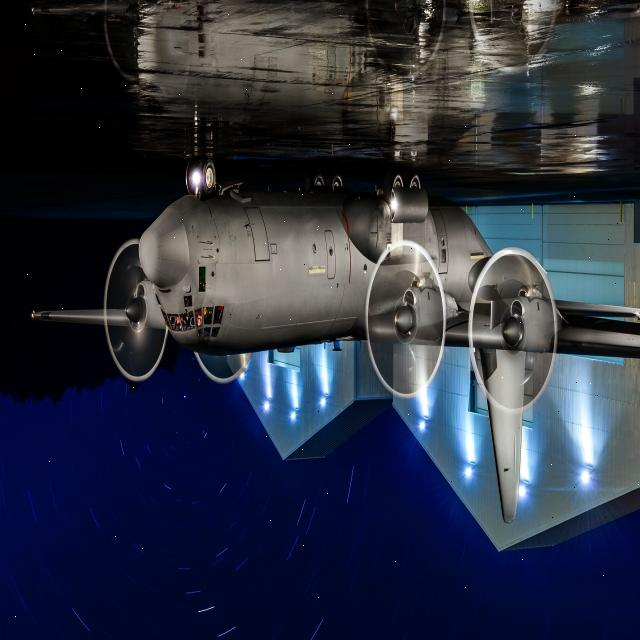C130: (7, 110, 594, 535)
